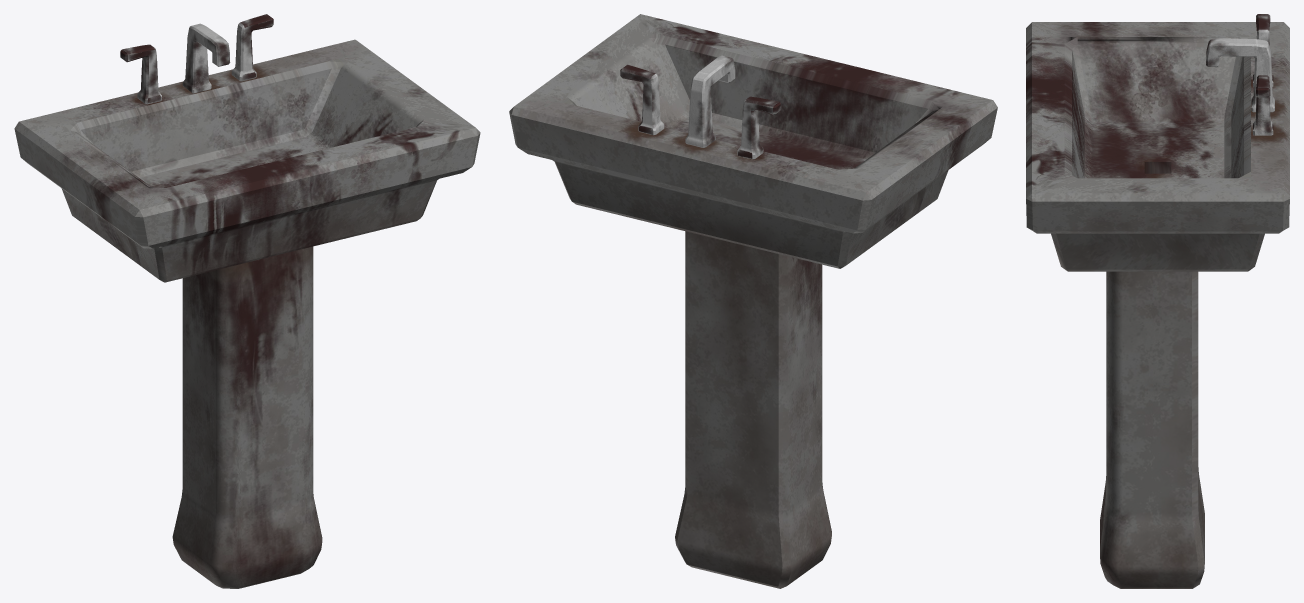
The model's file is obj_same_sink_but_less_sanitary_493b70.glb.
The picture shows the model from 3 angles, left to right: view 1: azimuth 30°, elevation 25°; view 2: azimuth 150°, elevation 25°; view 3: azimuth 270°, elevation 25°; orthographic projection. The views are drawn at different scales.
Visible parts, largest first — view 1: obj_same_sink_but_less_sanitary_493b70; view 2: obj_same_sink_but_less_sanitary_493b70; view 3: obj_same_sink_but_less_sanitary_493b70.
Boxes of the visible parts, left/top/right/bottom form: obj_same_sink_but_less_sanitary_493b70: left=14, top=14, right=480, bottom=588; obj_same_sink_but_less_sanitary_493b70: left=509, top=14, right=997, bottom=588; obj_same_sink_but_less_sanitary_493b70: left=1026, top=14, right=1289, bottom=588.
Bounding box in the file's own units: 0.4299 × 0.6 × 0.2726.
3 materials, 3 textured.
